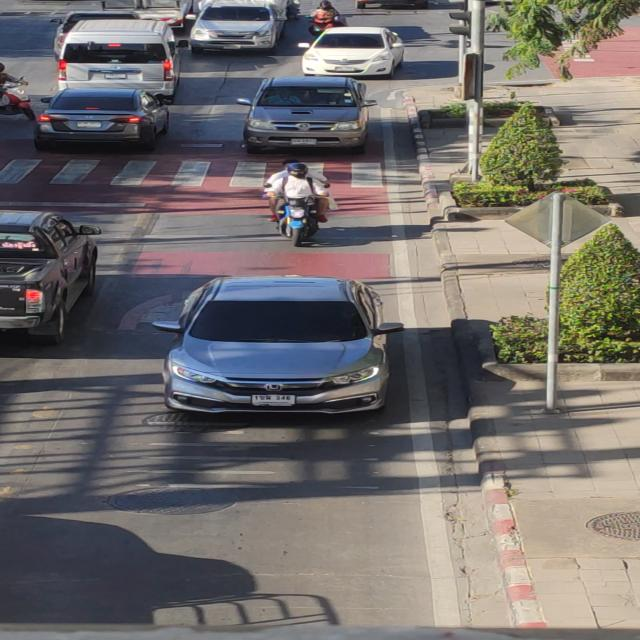car: (143, 262, 400, 432), (226, 76, 385, 156)
